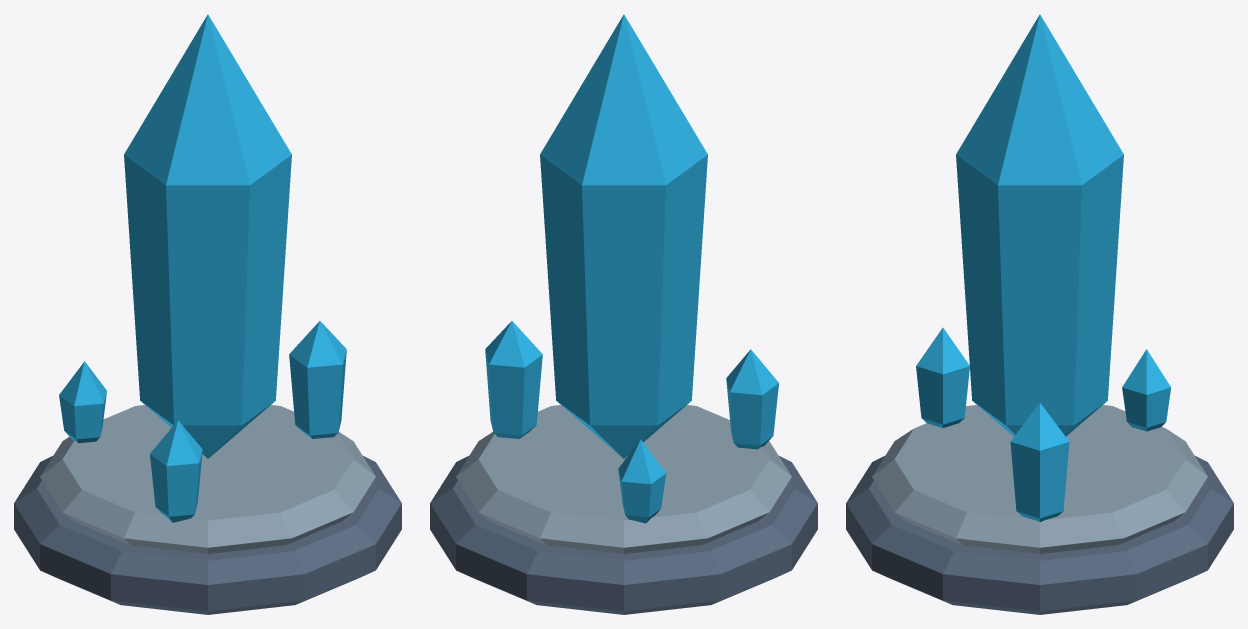
File: SkyHeart.fbx
3 views of the same model, side by side, from view 1: azimuth 30°, elevation 25°; view 2: azimuth 150°, elevation 25°; view 3: azimuth 270°, elevation 25° (orthographic).
Visible parts, largest first — view 1: SkyHeart_Main, Pedestal_Crown, Pedestal_Base, Crystal_East, Crystal_Southwest, Crystal_Northwest; view 2: SkyHeart_Main, Pedestal_Crown, Pedestal_Base, Crystal_East, Crystal_Southwest, Crystal_Northwest; view 3: SkyHeart_Main, Pedestal_Crown, Pedestal_Base, Crystal_East, Crystal_Southwest, Crystal_Northwest.
Boxes of the visible parts, left/top/right/bottom form: SkyHeart_Main: left=124, top=14, right=291, bottom=458; Pedestal_Crown: left=40, top=405, right=375, bottom=553; Pedestal_Base: left=14, top=456, right=401, bottom=614; Crystal_East: left=289, top=321, right=346, bottom=438; Crystal_Southwest: left=150, top=420, right=202, bottom=522; Crystal_Northwest: left=59, top=361, right=106, bottom=443; SkyHeart_Main: left=540, top=14, right=707, bottom=458; Pedestal_Crown: left=456, top=405, right=791, bottom=553; Pedestal_Base: left=430, top=456, right=817, bottom=614; Crystal_East: left=485, top=321, right=542, bottom=438; Crystal_Southwest: left=726, top=349, right=778, bottom=449; Crystal_Northwest: left=618, top=439, right=666, bottom=523; SkyHeart_Main: left=956, top=14, right=1123, bottom=436; Pedestal_Crown: left=872, top=405, right=1207, bottom=553; Pedestal_Base: left=846, top=456, right=1233, bottom=614; Crystal_East: left=1010, top=403, right=1069, bottom=521; Crystal_Southwest: left=916, top=327, right=969, bottom=427; Crystal_Northwest: left=1122, top=349, right=1171, bottom=431.
Size of the model in its own units: 1.68 by 2.52 by 1.68.
